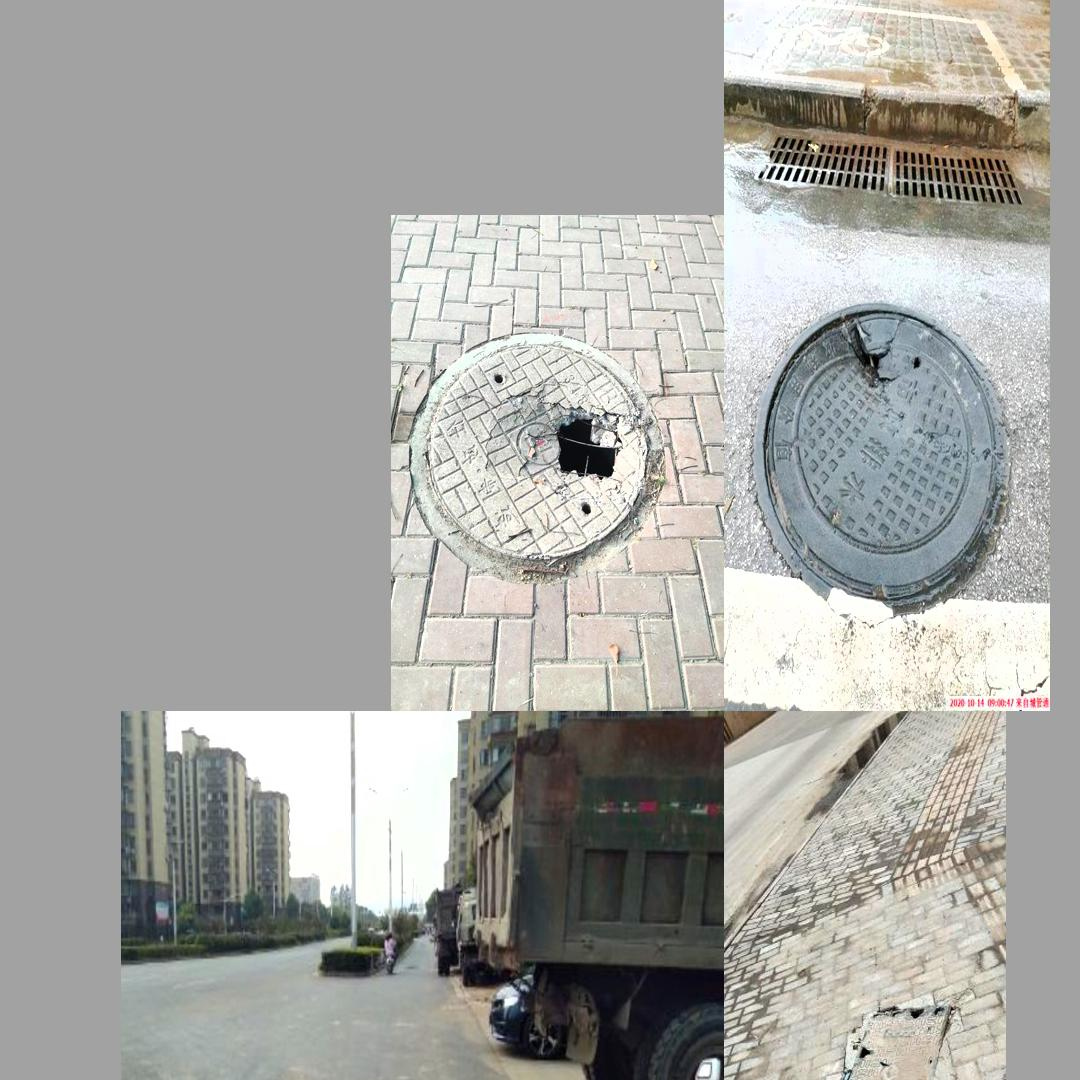broke: (746, 287, 1014, 634), (404, 322, 673, 585), (812, 995, 957, 1080)
